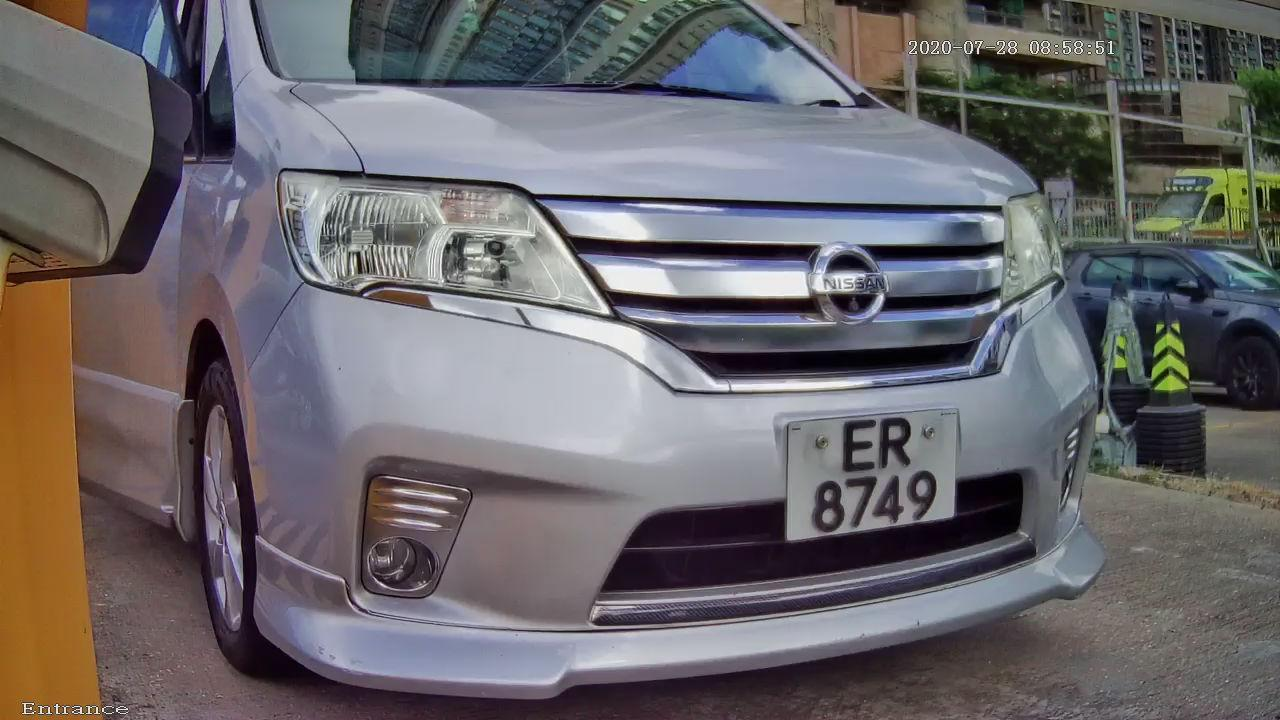privatecar: (81, 13, 1212, 708)
